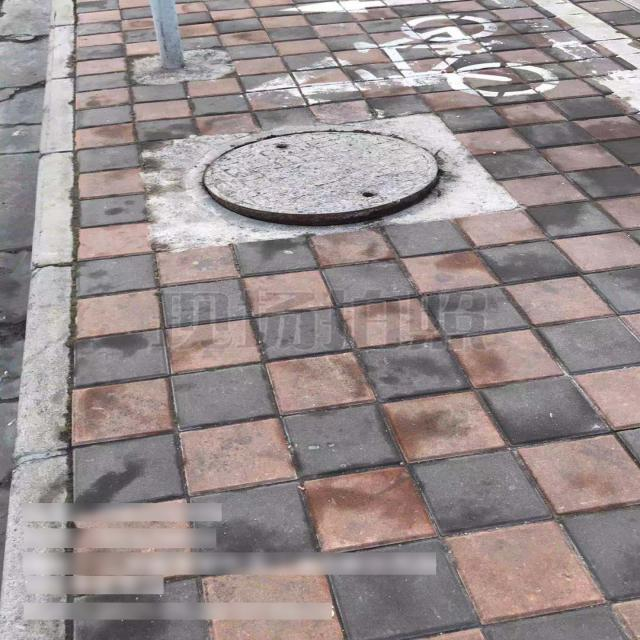Lose: (188, 123, 454, 229)
